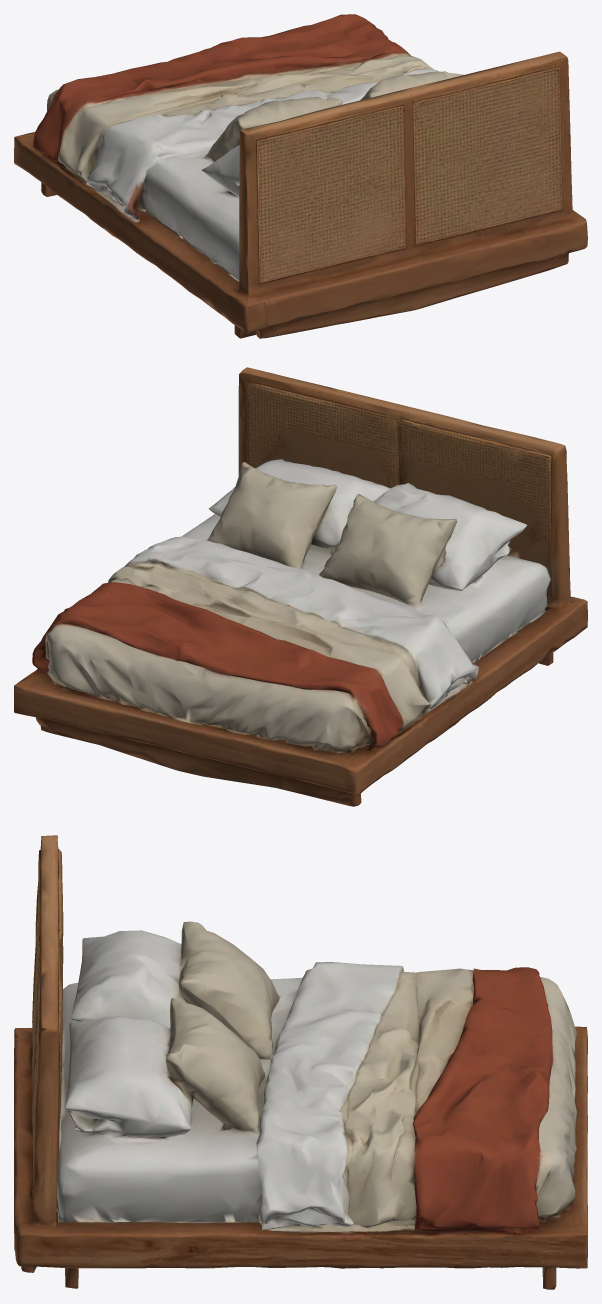
File: bed.glb
3 views of the same model, one above another, from view 1: azimuth 30°, elevation 25°; view 2: azimuth 150°, elevation 25°; view 3: azimuth 270°, elevation 25° (orthographic). The views are drawn at different scales.
Parts seen in each view (by area): view 1: tripo_node_e4b85694-8ffc-4dfd-8851-271ae7698063; view 2: tripo_node_e4b85694-8ffc-4dfd-8851-271ae7698063; view 3: tripo_node_e4b85694-8ffc-4dfd-8851-271ae7698063.
Part boxes in pixels (x1,y1,x2,y2): tripo_node_e4b85694-8ffc-4dfd-8851-271ae7698063: (14,14,587,338); tripo_node_e4b85694-8ffc-4dfd-8851-271ae7698063: (14,367,587,806); tripo_node_e4b85694-8ffc-4dfd-8851-271ae7698063: (14,835,587,1289).
Size of the model in its own units: 2.1 by 1.2 by 2.37.
Materials: 1 (1 with a texture image).
